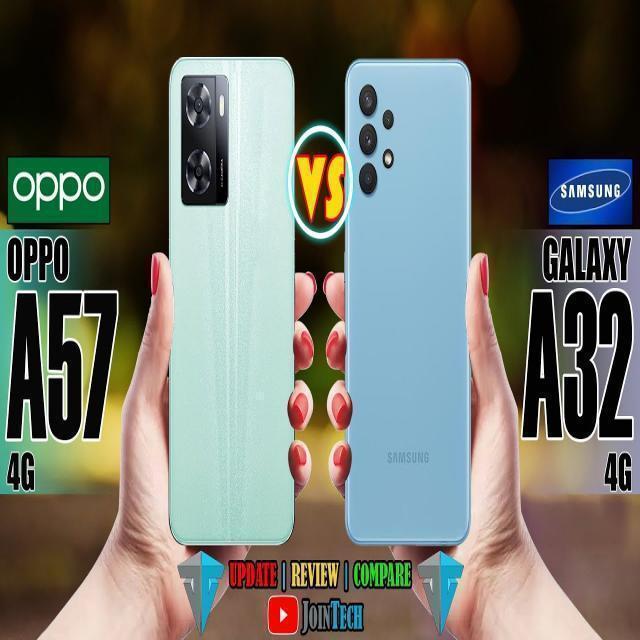phone: (346, 59, 471, 546), (170, 58, 294, 544)
